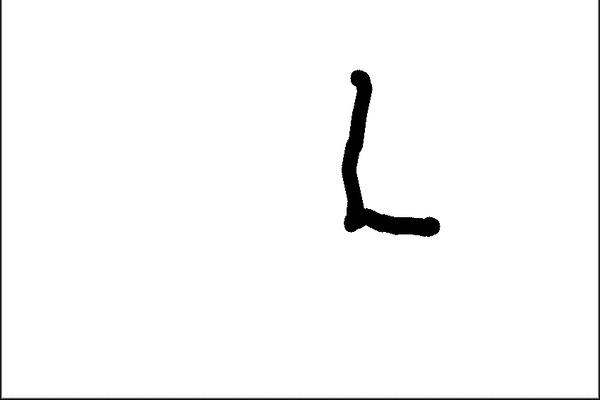L: (333, 59, 444, 242)
